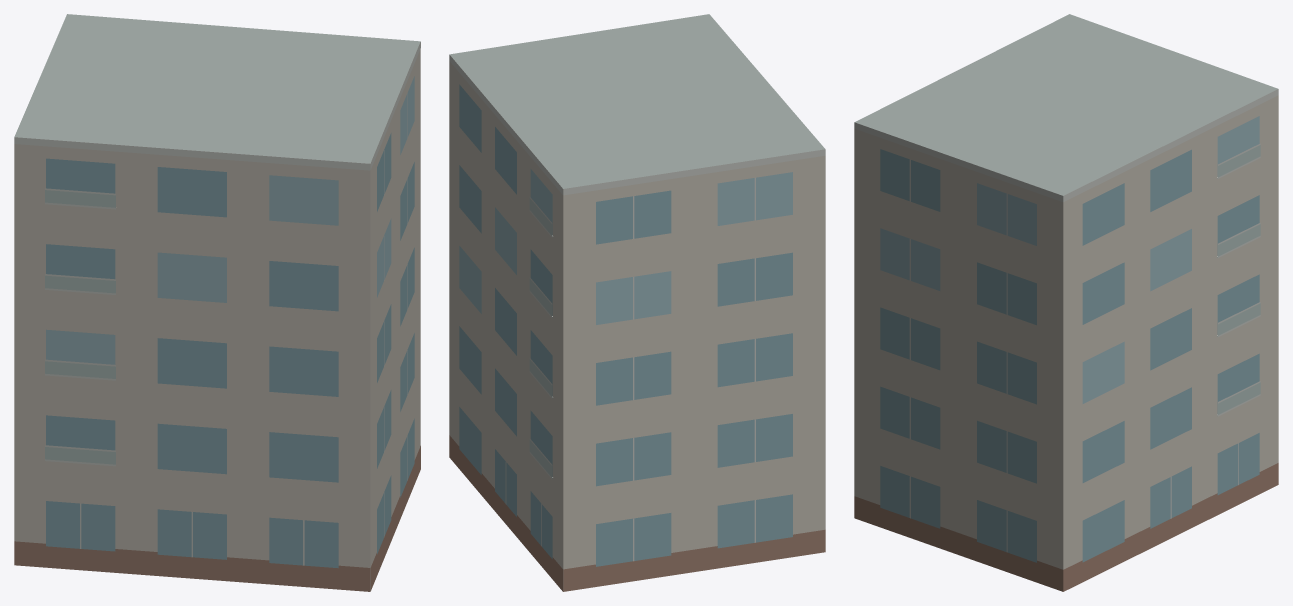
The model's file is survey-upis-32693115.glb.
The picture shows the model from 3 angles, left to right: view 1: azimuth 30°, elevation 25°; view 2: azimuth 150°, elevation 25°; view 3: azimuth 270°, elevation 25°; orthographic projection. The views are drawn at different scales.
Parts seen in each view (by area): view 1: survey-upis-32693115.tmp; view 2: survey-upis-32693115.tmp; view 3: survey-upis-32693115.tmp.
Part boxes in pixels (x1,y1,x2,y2): survey-upis-32693115.tmp: (14,14,420,591); survey-upis-32693115.tmp: (449,14,825,591); survey-upis-32693115.tmp: (854,14,1278,591).
Bounding box in the file's own units: 15.09 × 15.3 × 14.87.
